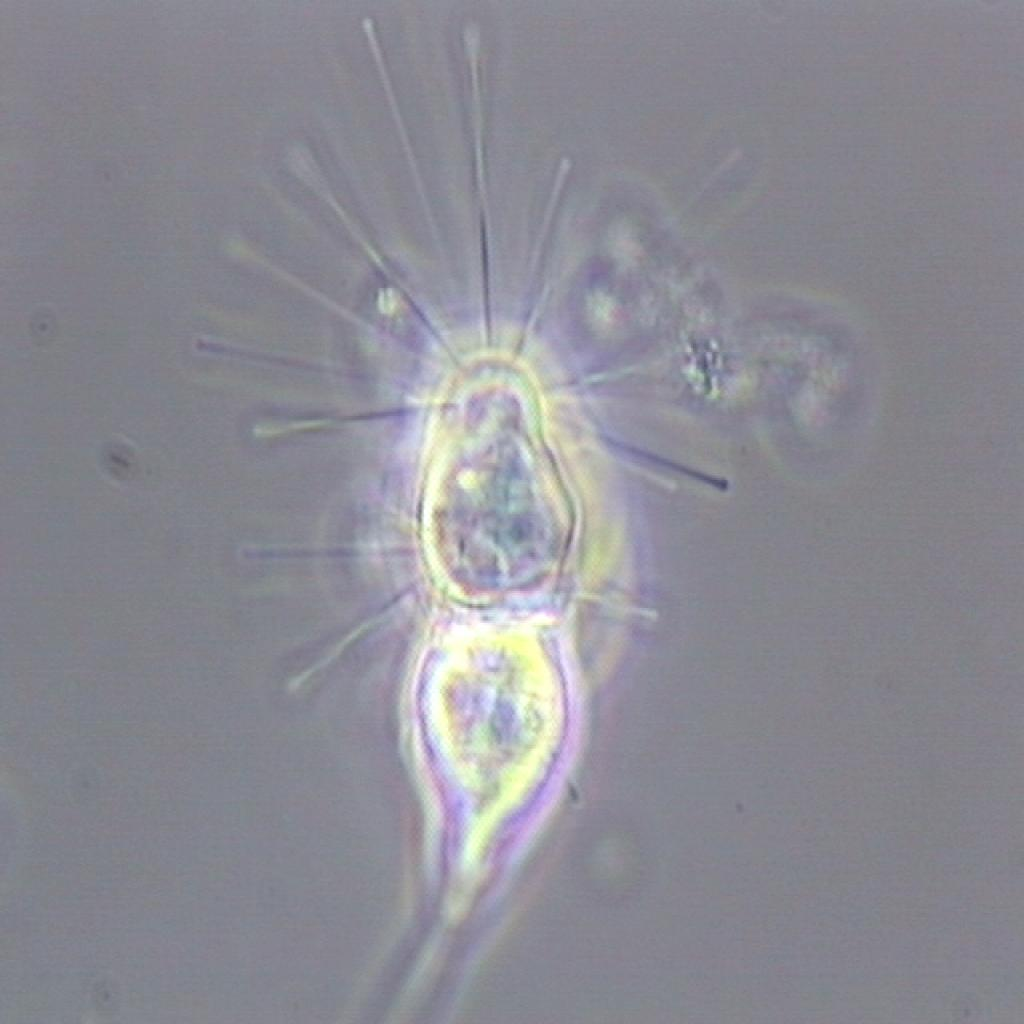Suctorida: (204, 14, 758, 950)
